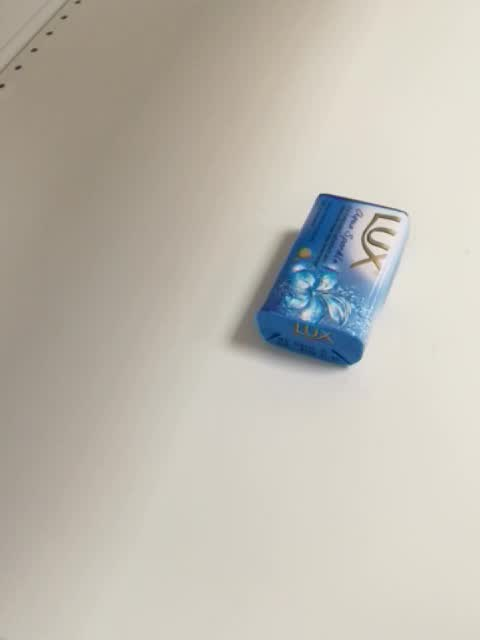soap: (253, 190, 412, 368)
